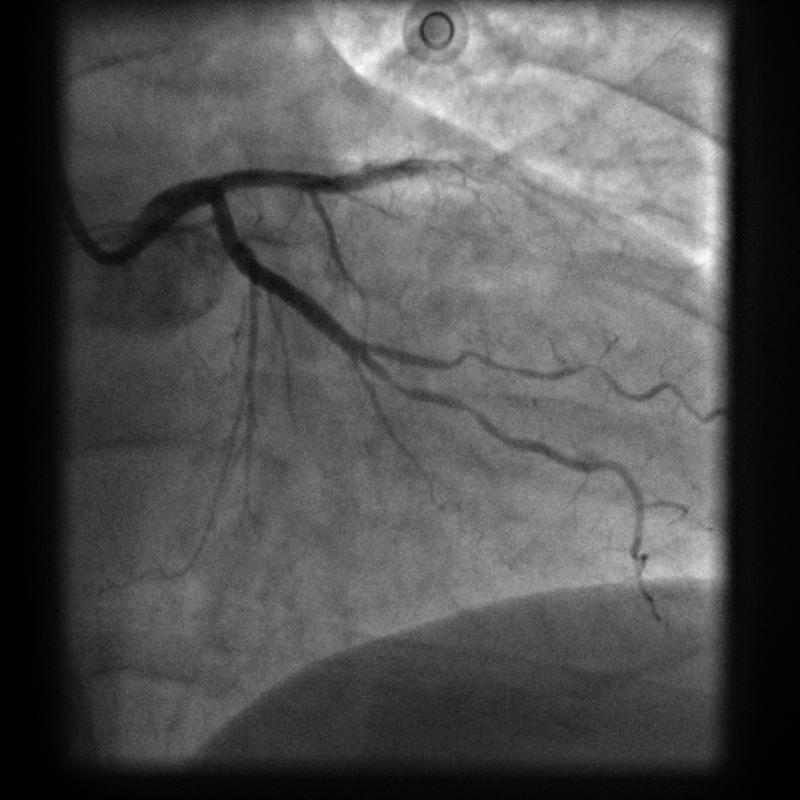Stenosis: (385, 376, 477, 418)
